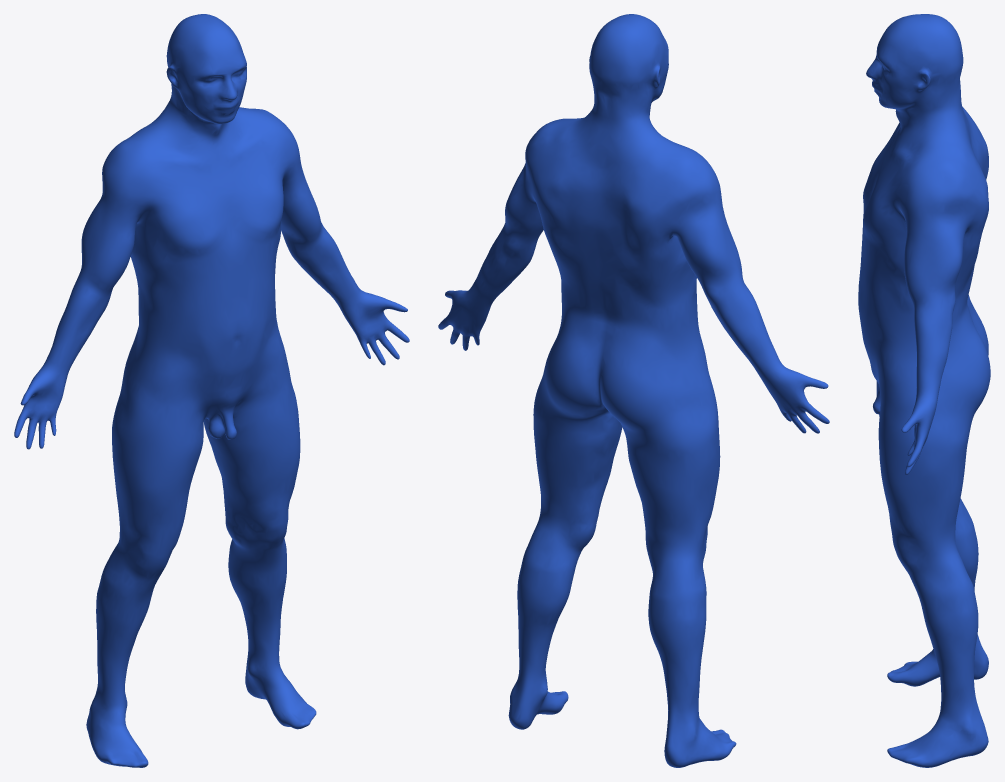
The model's file is skin.glb.
3 views of the same model, side by side, from view 1: azimuth 30°, elevation 25°; view 2: azimuth 150°, elevation 25°; view 3: azimuth 270°, elevation 25° (orthographic). The views are drawn at different scales.
Visible parts, largest first — view 1: VH_M_skin; view 2: VH_M_skin; view 3: VH_M_skin.
Boxes of the visible parts, x1,y1,x2,y2 form: VH_M_skin: [14, 14, 409, 767]; VH_M_skin: [438, 14, 829, 767]; VH_M_skin: [858, 14, 990, 767].
Size of the model in its own units: 1.05 by 1.83 by 0.3115.
